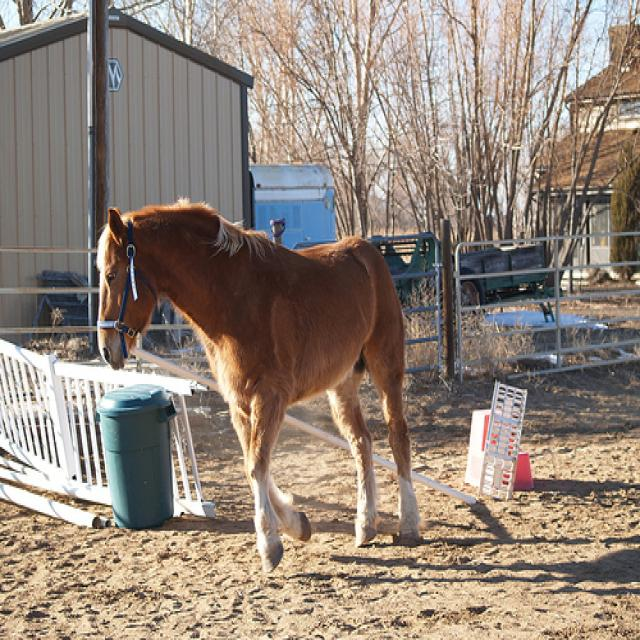horse: (88, 198, 426, 592)
